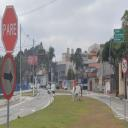speed_limit_50: (122, 59, 128, 74)
